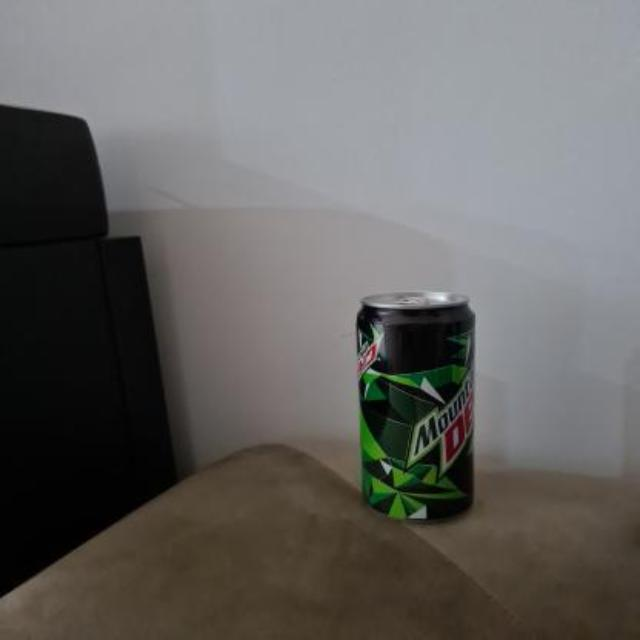metal: (355, 291, 471, 517)
